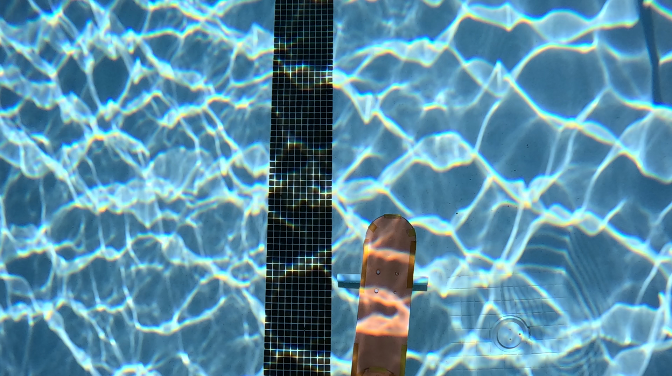pathmarker: (350, 213, 414, 373)
